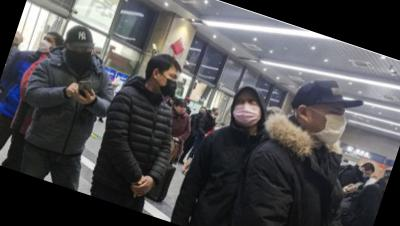with_mask: (305, 97, 352, 149), (228, 92, 266, 130), (61, 41, 95, 70), (155, 67, 183, 99), (37, 32, 57, 54), (361, 169, 373, 180), (213, 123, 222, 132), (211, 110, 219, 120)
without_mask: (176, 103, 188, 115)
